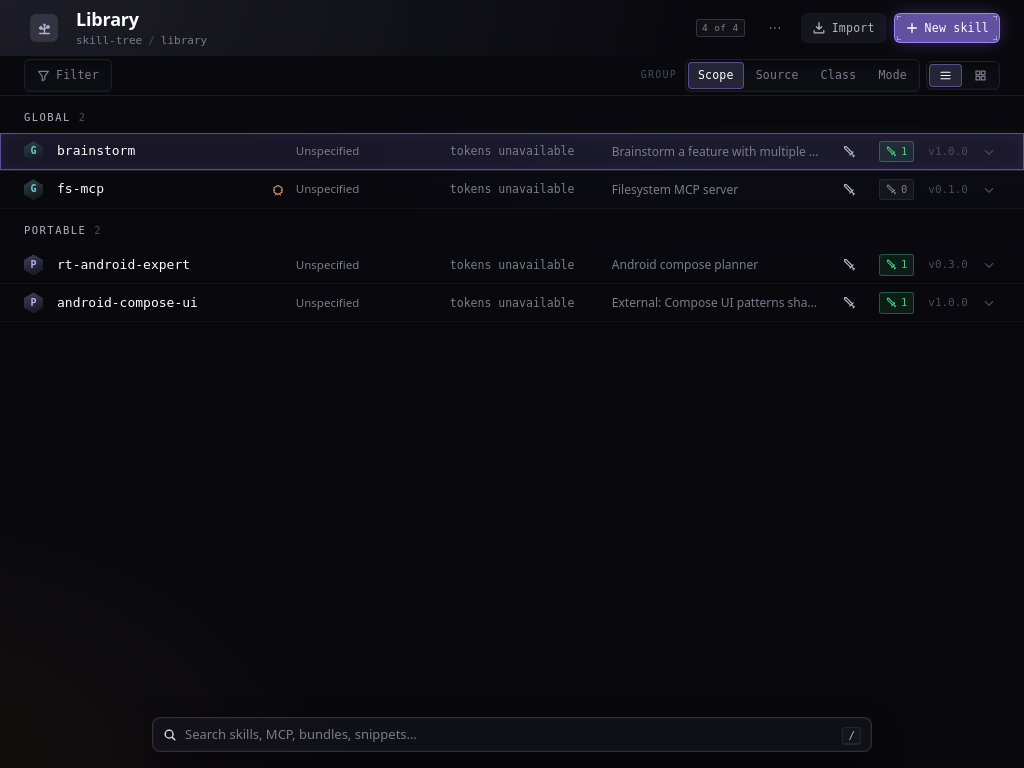
SkillLibrary equip + empty states + candidate banner › opens the equip picker from a Library row's equip action
Click the 1st button titled "Equip on…" at (849, 152), box [834,140,865,163]
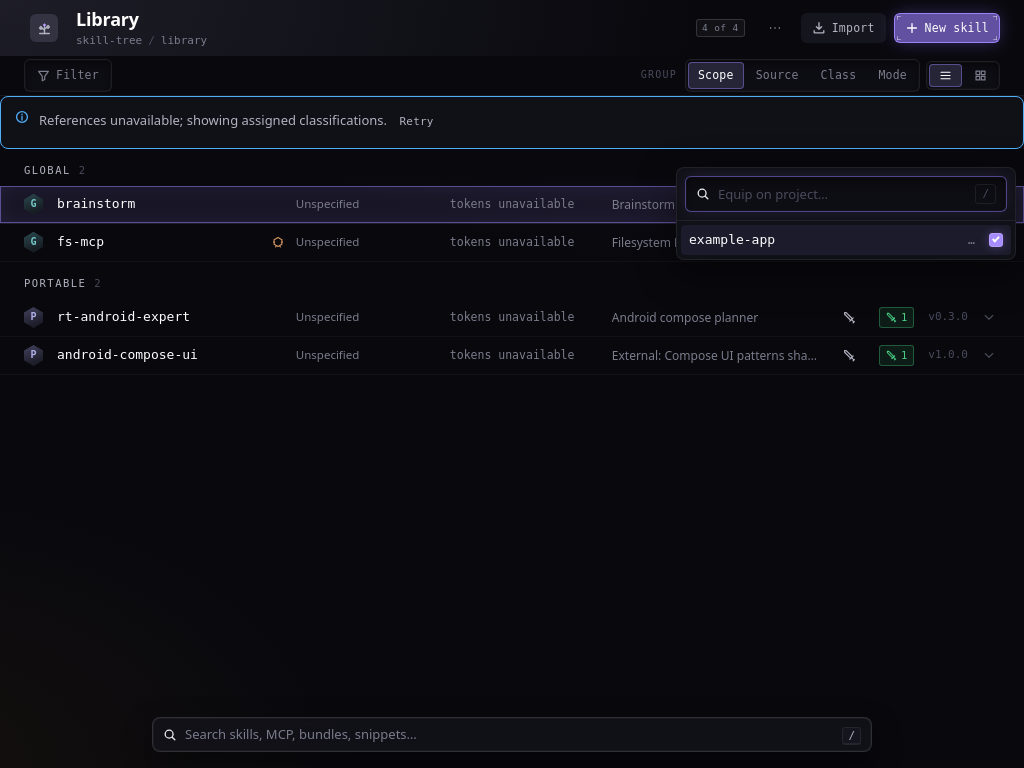
Check: the field with placeholder "Equip on project…" is shown, box [718,185,967,204]
